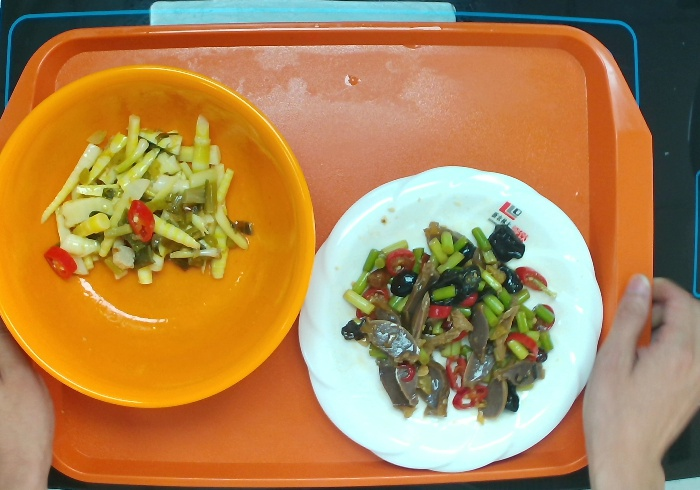ZNLD-Hua_Bian_Wan: (296, 162, 607, 475)
ZNLD-Ju_Se_Tang_Wan: (1, 61, 318, 414)
